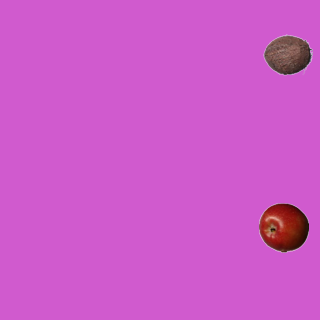Apple Braeburn: (258, 202, 308, 252)
Cocos: (262, 29, 312, 79)
